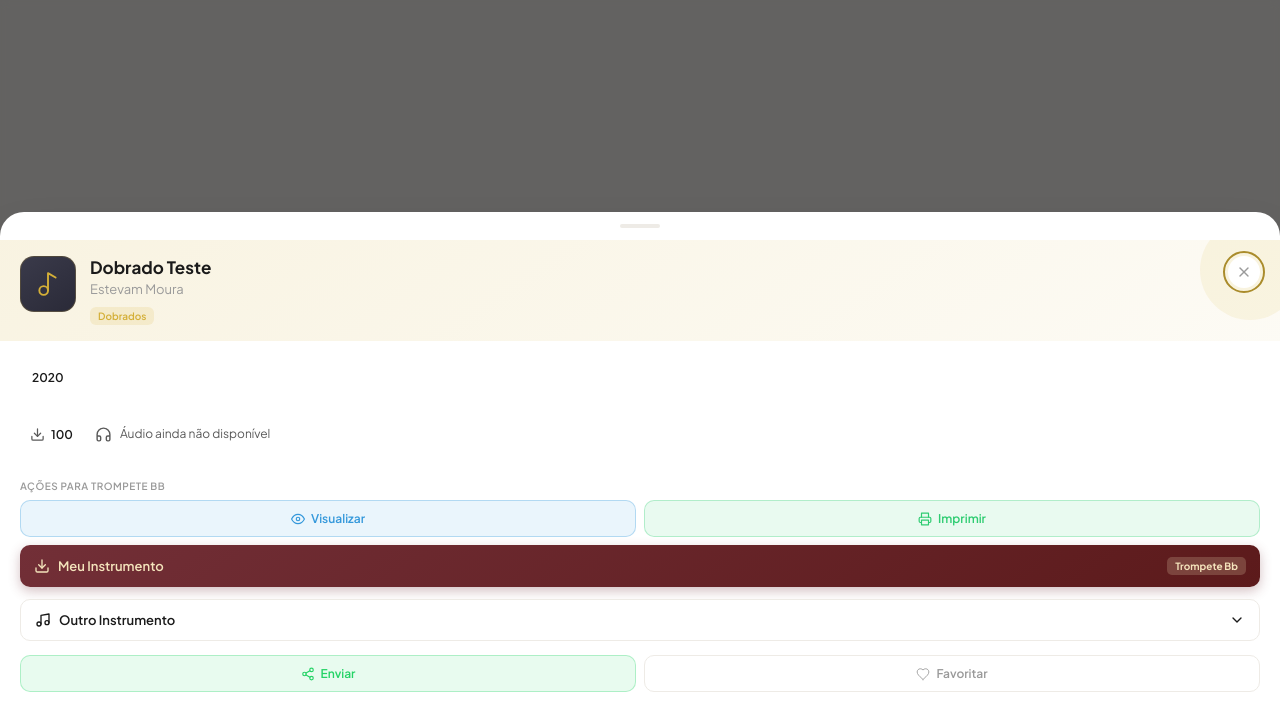
SheetDetailModal › Opcoes de compartilhamento › Escape fecha apenas as opções e mantém os detalhes da partitura abertos
Click the button with aria-label "compartilhar partitura" at (328,674), box [20,655,636,692]
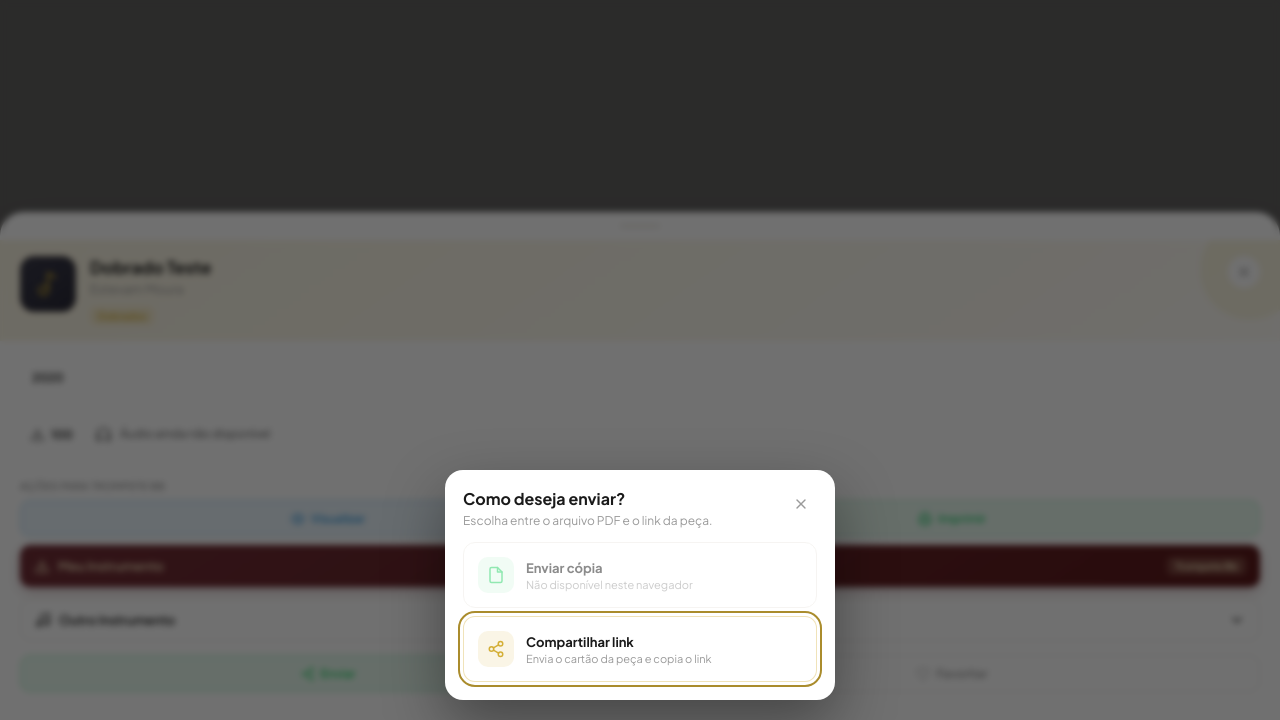
Press Escape
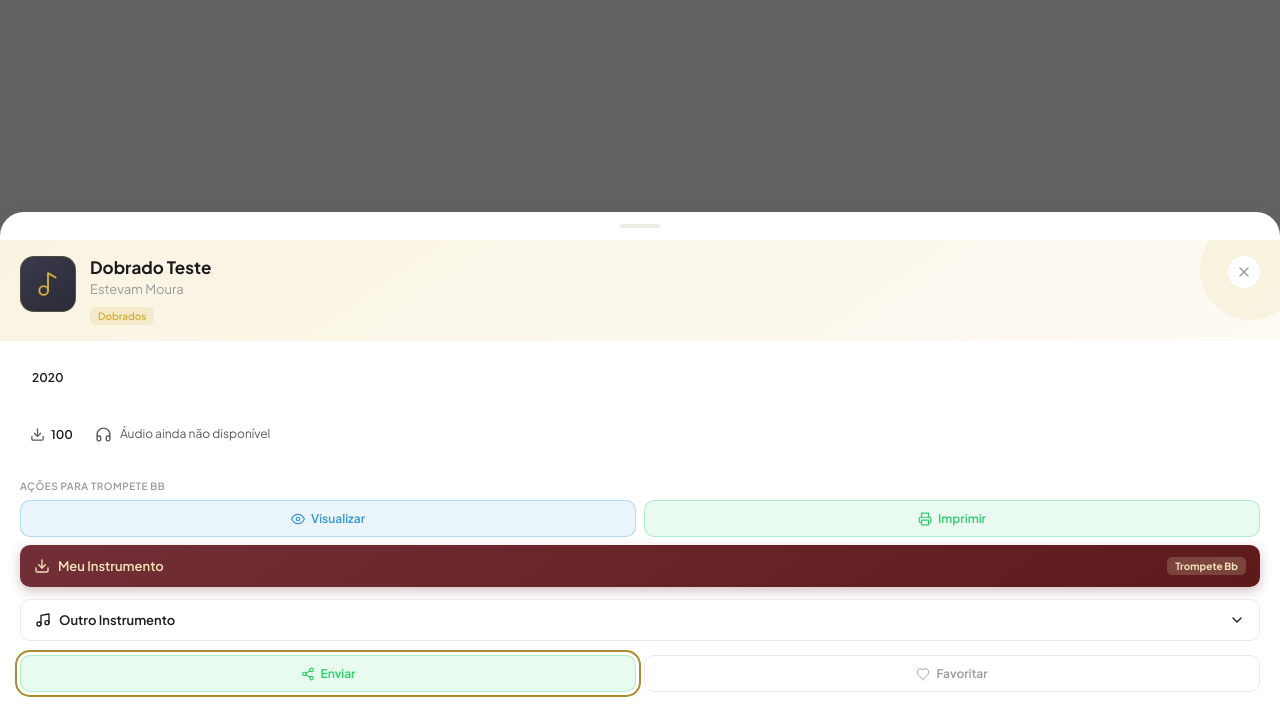
Now the heading "Como deseja enviar" is gone
